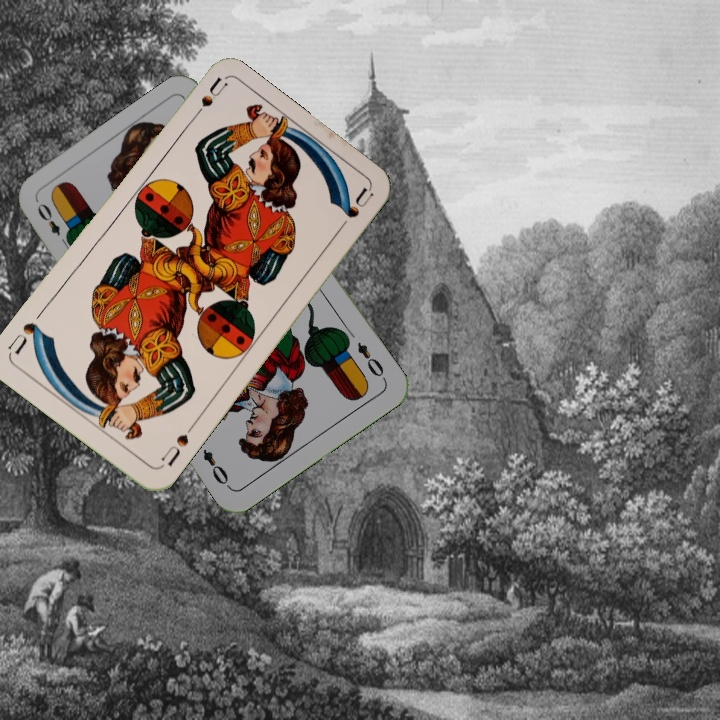EO: (33, 198, 73, 250), (353, 338, 389, 383)
SU: (184, 75, 230, 127), (156, 419, 198, 470)
